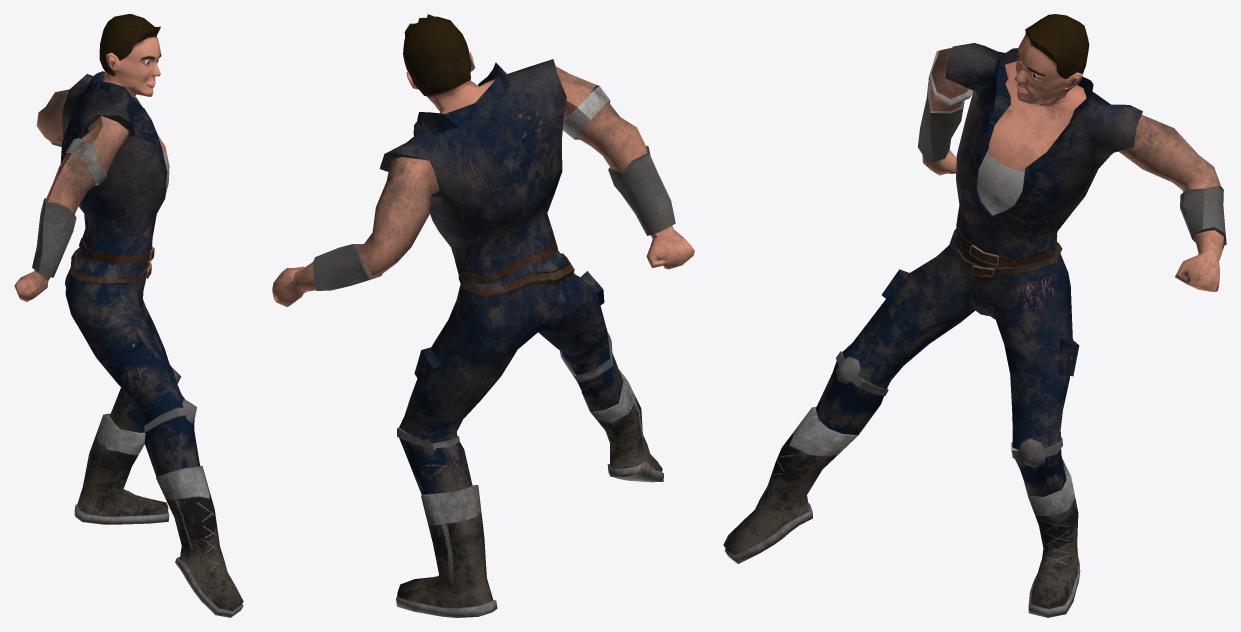
The model's file is Anim_ataque_f2_jugador.0023.obj.
The picture shows the model from 3 angles, left to right: view 1: azimuth 30°, elevation 25°; view 2: azimuth 150°, elevation 25°; view 3: azimuth 270°, elevation 25°; orthographic projection. The views are drawn at different scales.
Visible parts, largest first — view 1: polySurface1; view 2: polySurface1; view 3: polySurface1.
Boxes of the visible parts, left/top/right/bottom form: polySurface1: left=14, top=14, right=243, bottom=617; polySurface1: left=272, top=14, right=694, bottom=617; polySurface1: left=723, top=14, right=1226, bottom=617.
Bounding box in the file's own units: 4.57 × 9.17 × 7.19.
